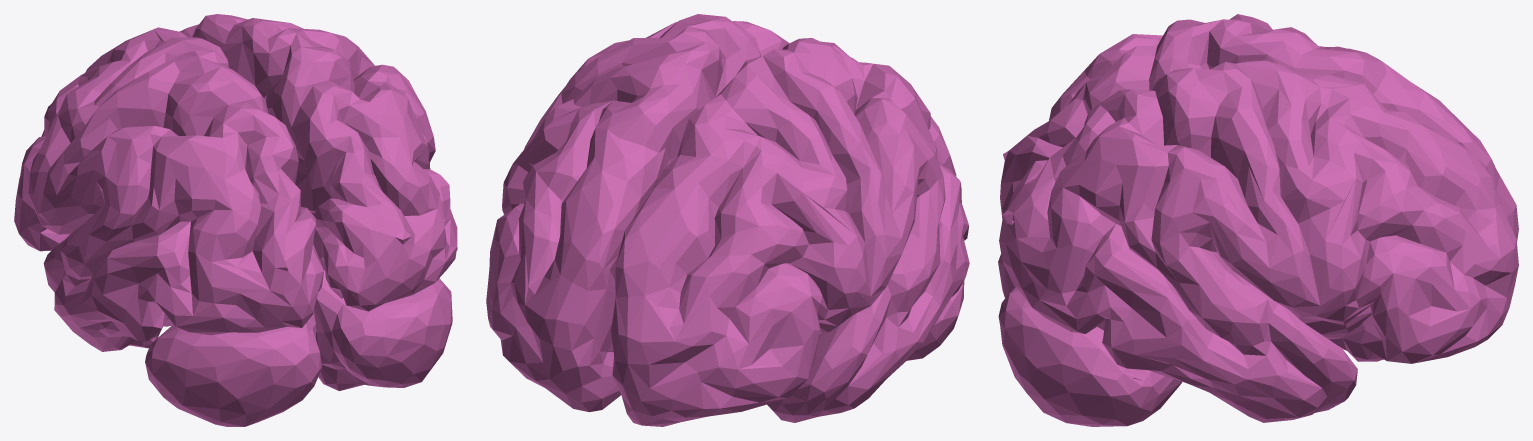
Rendered from brain1.obj.
3 renders of one model, left to right at view 1: azimuth 30°, elevation 25°; view 2: azimuth 150°, elevation 25°; view 3: azimuth 270°, elevation 25°, orthographic. The views are drawn at different scales.
Visible parts, largest first — view 1: Brain; view 2: Brain; view 3: Brain.
Part boxes in pixels (x1,y1,x2,y2): Brain: [14, 14, 457, 426]; Brain: [486, 14, 969, 426]; Brain: [998, 14, 1518, 426].
Bounding box in the file's own units: 1.4 × 1.19 × 1.66.
